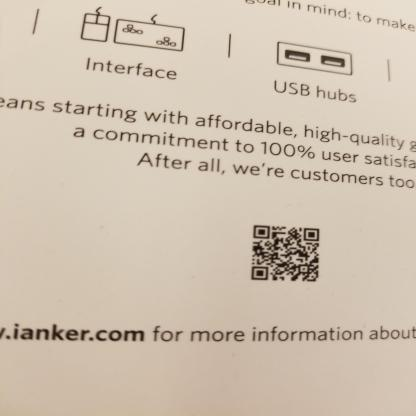qr: (247, 221, 326, 288)
